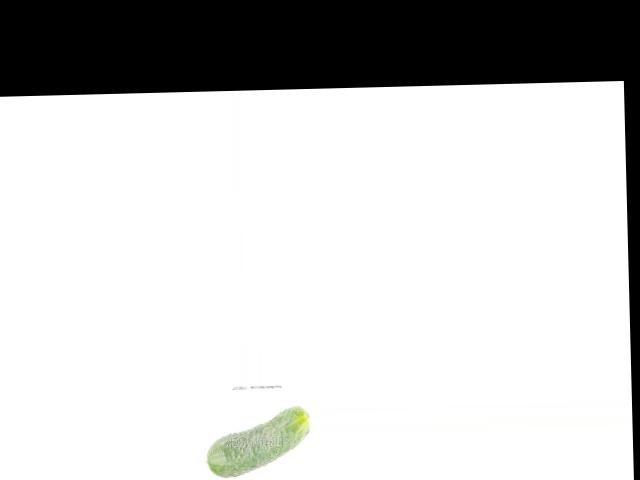cucumber: (204, 405, 310, 478)
